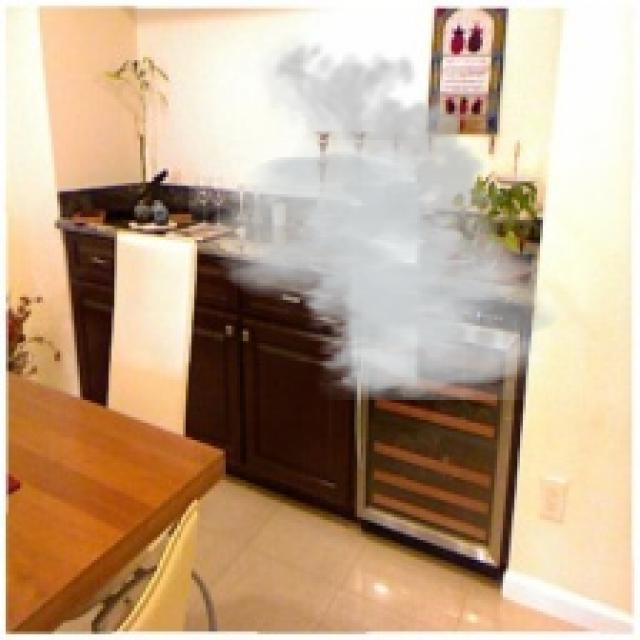smoke: (189, 31, 580, 400)
